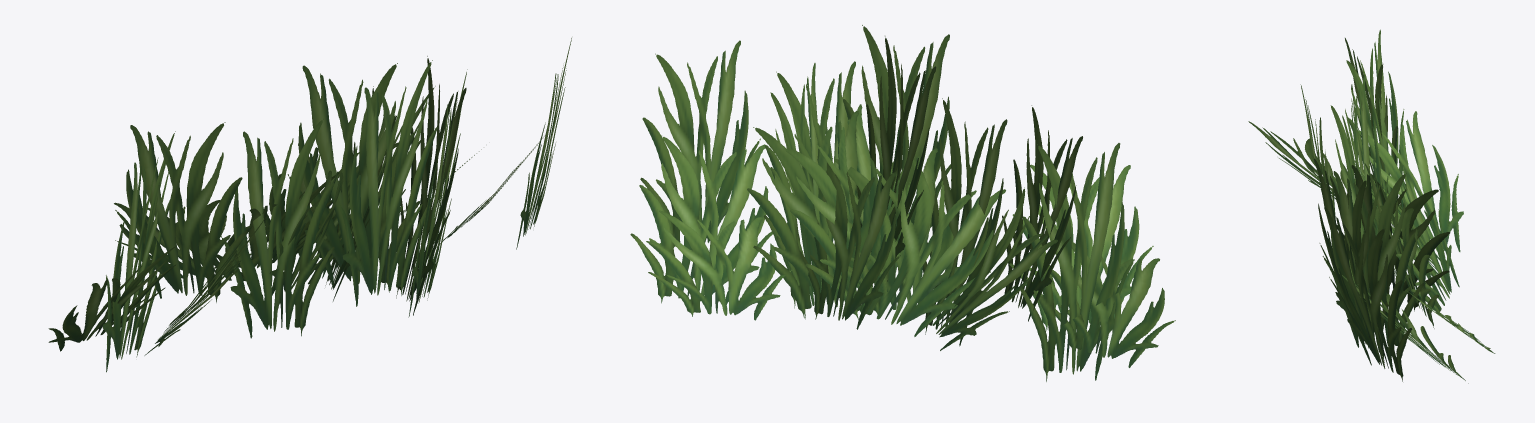
The model's file is Grass_A_1.fbx.
3 renders of one model, left to right at view 1: azimuth 30°, elevation 25°; view 2: azimuth 150°, elevation 25°; view 3: azimuth 270°, elevation 25°, orthographic. The views are drawn at different scales.
Visible parts, largest first — view 1: Grass_A_1__3_; view 2: Grass_A_1__3_; view 3: Grass_A_1__3_.
Part boxes in pixels (left/top/right/bottom): Grass_A_1__3_: left=48, top=38, right=571, bottom=372; Grass_A_1__3_: left=630, top=25, right=1175, bottom=381; Grass_A_1__3_: left=1248, top=29, right=1495, bottom=383.
Bounding box in the file's own units: 0.4884 × 0.2501 × 0.2625.
